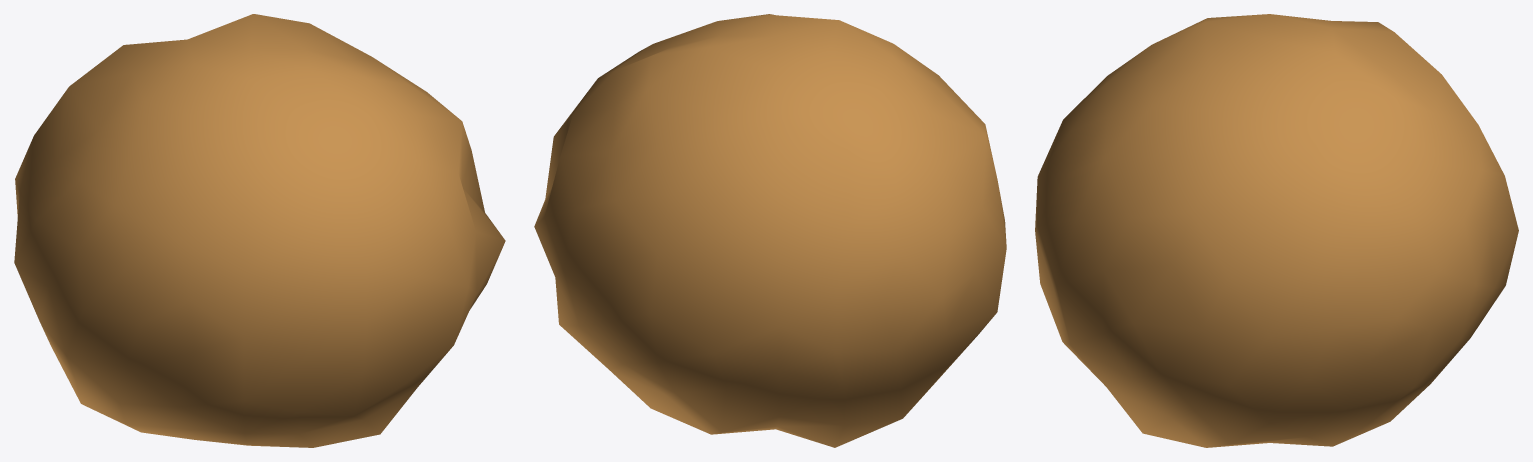
File: medium.glb
3 views of the same model, side by side, from view 1: azimuth 30°, elevation 25°; view 2: azimuth 150°, elevation 25°; view 3: azimuth 270°, elevation 25° (orthographic).
Parts seen in each view (by area): view 1: world; view 2: world; view 3: world.
Boxes of the visible parts, x1,y1,x2,y2 form: world: [14, 14, 505, 447]; world: [534, 14, 1006, 447]; world: [1035, 14, 1518, 447].
Size of the model in its own units: 19.38 by 17.21 by 19.18.
